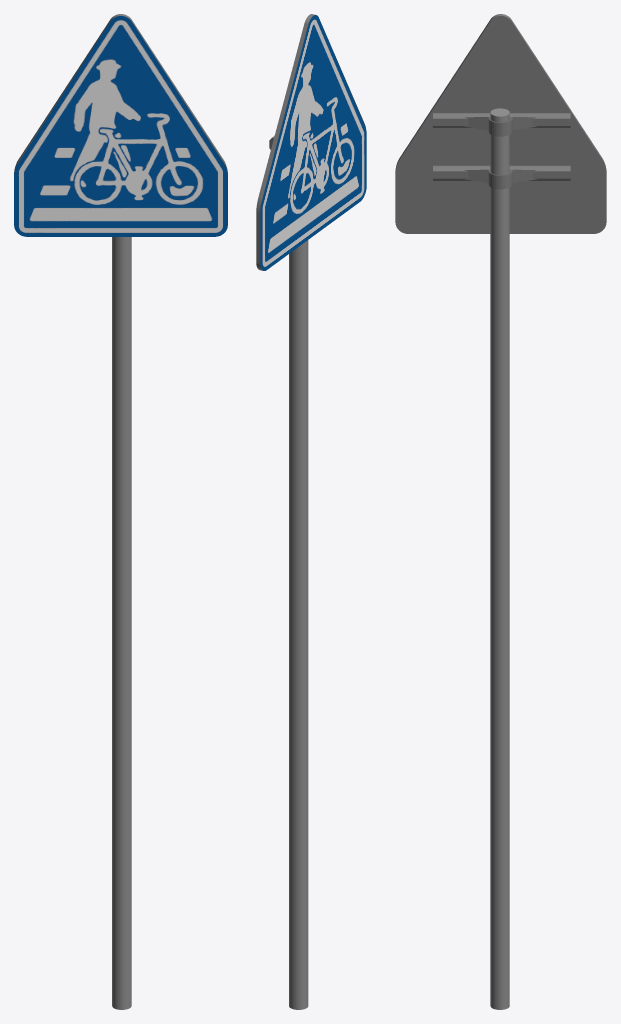
The picture shows the model from 3 angles, left to right: view 1: azimuth 90°, elevation 25°; view 2: azimuth 150°, elevation 25°; view 3: azimuth 270°, elevation 25°; orthographic projection.
Visible parts, largest first — view 1: 015, Prop; view 2: 015, Prop; view 3: 015, Prop.
Boxes of the visible parts, bbox=[...] form: 015: bbox=[14, 14, 227, 236]; Prop: bbox=[50, 112, 131, 1009]; 015: bbox=[256, 14, 366, 270]; Prop: bbox=[269, 136, 308, 1009]; 015: bbox=[395, 14, 606, 233]; Prop: bbox=[433, 108, 570, 1009].
Bounding box in the file's own units: 6.76 × 259 × 50.4.
